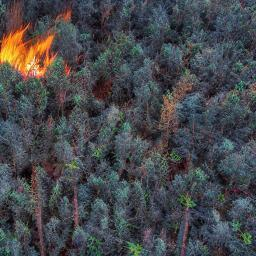Small fire: (0, 0, 89, 111)
